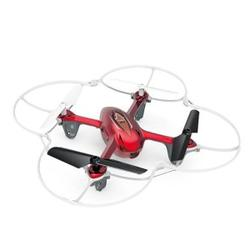drone: (11, 64, 243, 208)
